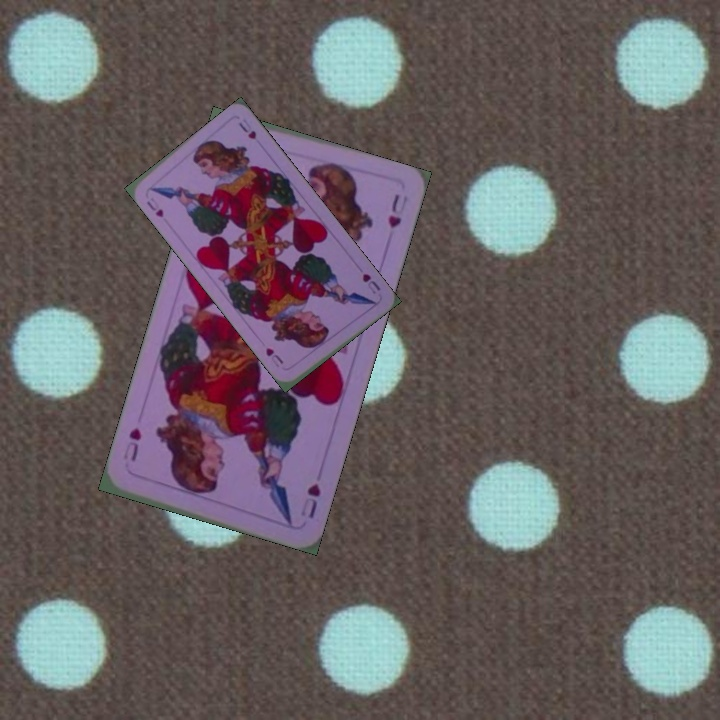HU: (296, 479, 323, 521), (358, 269, 383, 296), (142, 197, 166, 220)
